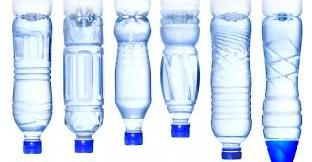Plastic: (262, 14, 303, 162), (211, 16, 252, 160), (11, 15, 53, 155), (63, 13, 103, 153), (161, 13, 201, 139), (115, 13, 151, 148)
